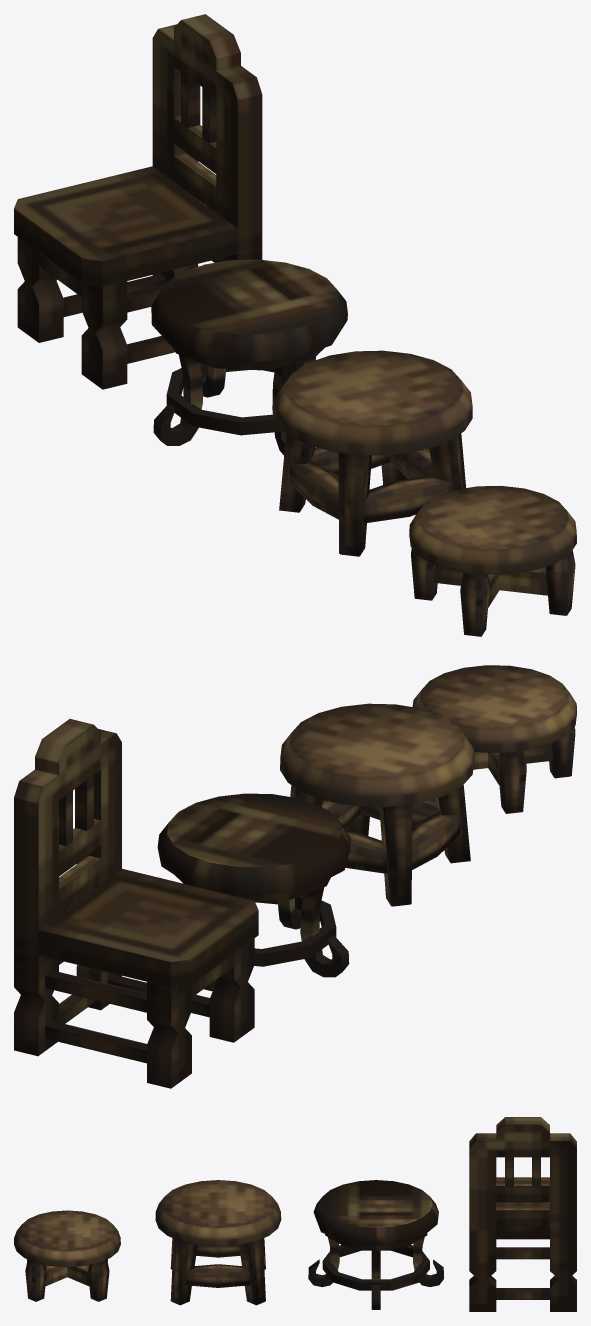
Rendered from EnvObjMD_Chair_A.FBX.
3 renders of one model, top to bottom at view 1: azimuth 30°, elevation 25°; view 2: azimuth 150°, elevation 25°; view 3: azimuth 270°, elevation 25°, orthographic. The views are drawn at different scales.
Visible parts, largest first — view 1: EnvObjMD_Chair_A, EnvObjMD_Chair_B_Wood_A, EnvObjMD_Chair_B, EnvObjMD_Chair_B_Wood_A_Child_A; view 2: EnvObjMD_Chair_A, EnvObjMD_Chair_B_Wood_A, EnvObjMD_Chair_B, EnvObjMD_Chair_B_Wood_A_Child_A; view 3: EnvObjMD_Chair_A, EnvObjMD_Chair_B_Wood_A, EnvObjMD_Chair_B, EnvObjMD_Chair_B_Wood_A_Child_A.
Boxes of the visible parts, x1,y1,x2,y2 form: EnvObjMD_Chair_A: (14,14,262,389); EnvObjMD_Chair_B_Wood_A: (275,350,472,556); EnvObjMD_Chair_B: (151,259,347,455); EnvObjMD_Chair_B_Wood_A_Child_A: (409,486,576,636); EnvObjMD_Chair_A: (14,719,258,1088); EnvObjMD_Chair_B_Wood_A: (280,703,474,906); EnvObjMD_Chair_B: (157,793,351,991); EnvObjMD_Chair_B_Wood_A_Child_A: (412,665,576,813); EnvObjMD_Chair_A: (469,1117,576,1311); EnvObjMD_Chair_B_Wood_A: (155,1180,281,1305); EnvObjMD_Chair_B: (308,1180,443,1309); EnvObjMD_Chair_B_Wood_A_Child_A: (14,1210,120,1301).
Bounding box in the file's own units: 75.48 × 115 × 313.
2 materials, 2 textured.
